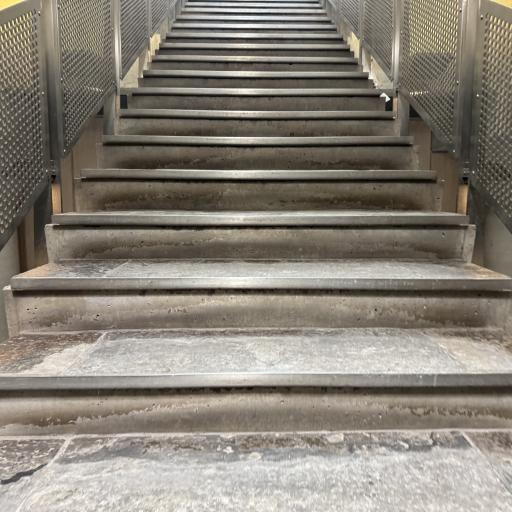Stairs: (0, 0, 512, 509)
